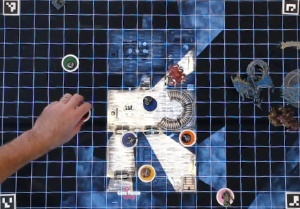blue: (140, 95, 159, 111)
green: (57, 53, 80, 74)
orange: (177, 128, 196, 147)
pink: (215, 186, 238, 207)
red: (73, 102, 91, 121)
violet: (120, 130, 138, 149)
yellow: (135, 161, 159, 185)
